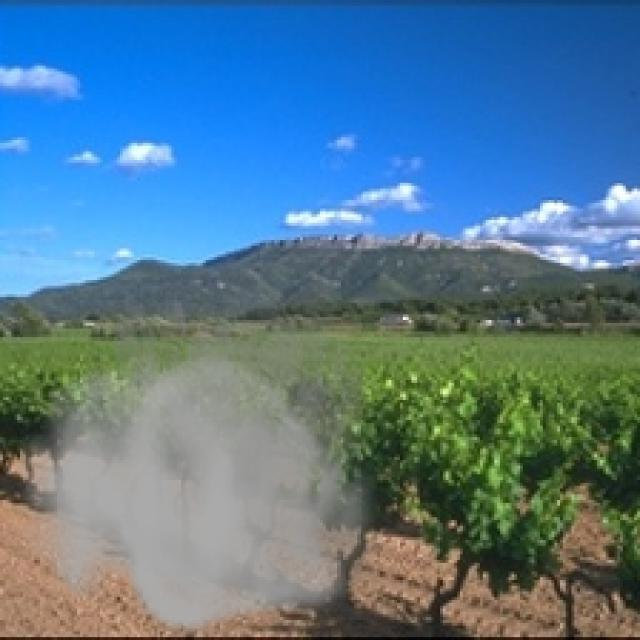Smoke: (17, 254, 397, 637)
